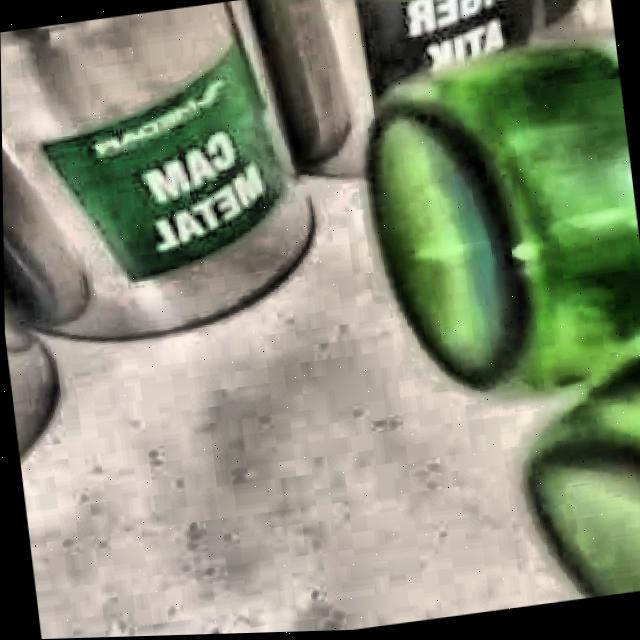glass: (372, 39, 640, 600)
